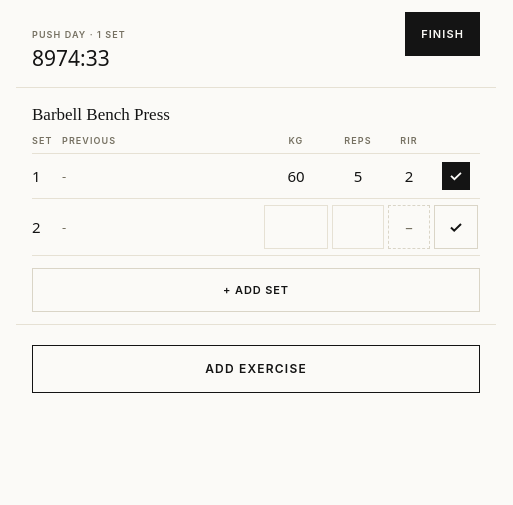
Test case: LogWorkout — State B: an open session › finishing opens a summary before closing the session, not straight after tapping
Check: the field with test id "weight-input" is shown, box [264,205,328,249]
Click the button with test id "finish-button" at {"x": 443, "y": 34}, box [405,12,480,56]
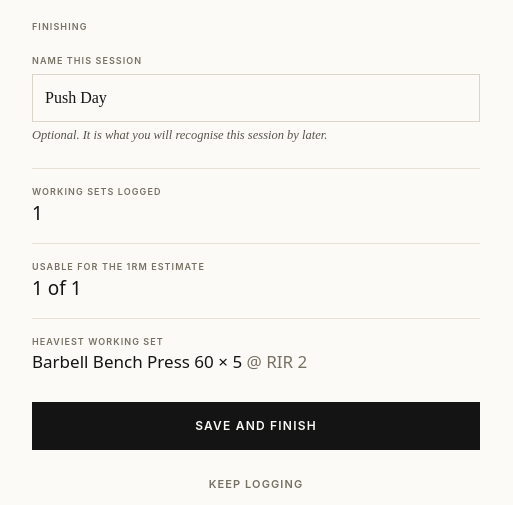
Check: the button with test id "confirm-finish-button" is shown, box [32,402,480,450]
Check: the text with test id "summary-working" reads "1", box [32,200,43,226]
